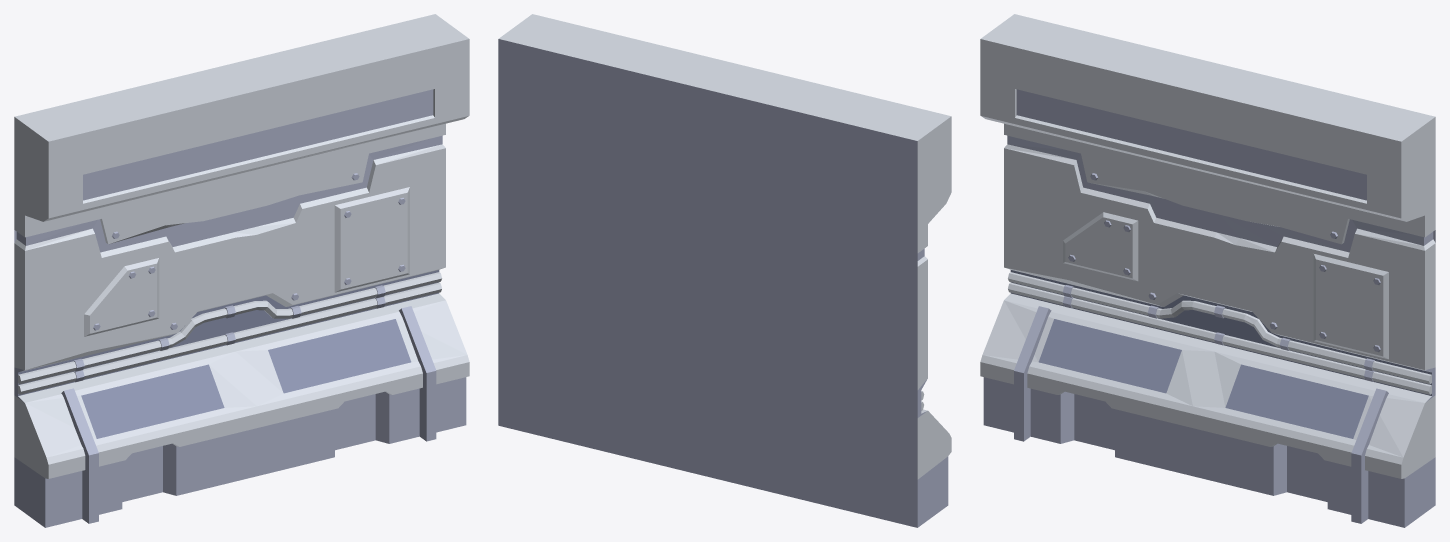
Rendered from Wall4.FBX.
The picture shows the model from 3 angles, left to right: view 1: azimuth 30°, elevation 25°; view 2: azimuth 150°, elevation 25°; view 3: azimuth 330°, elevation 25°; orthographic projection.
Parts seen in each view (by area): view 1: Wall4; view 2: Wall4; view 3: Wall4.
Part boxes in pixels (bbox=[...]): Wall4: bbox=[14, 14, 469, 527]; Wall4: bbox=[498, 14, 951, 527]; Wall4: bbox=[980, 14, 1435, 527].
Bounding box in the file's own units: 39.64 × 34.96 × 6.13.
